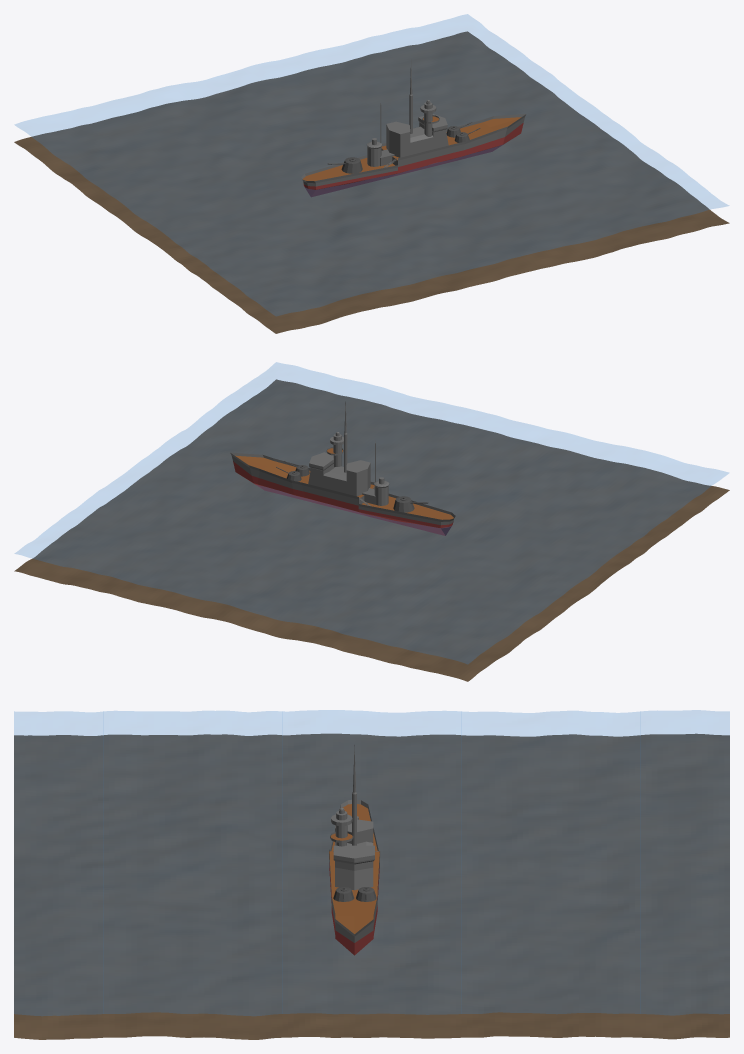
File: Warship.fbx
The picture shows the model from 3 angles, top to bottom: view 1: azimuth 30°, elevation 25°; view 2: azimuth 150°, elevation 25°; view 3: azimuth 270°, elevation 25°; orthographic projection. The views are drawn at different scales.
Visible parts, largest first — view 1: Plane.001, Plane, Cube; view 2: Plane.001, Plane, Cube; view 3: Plane.001, Plane, Cube.
Part boxes in pixels (x1,y1,x2,y2): Plane.001: (14, 31, 729, 333); Plane: (15, 14, 728, 315); Cube: (301, 59, 526, 197); Plane.001: (14, 379, 729, 681); Plane: (15, 362, 728, 663); Cube: (230, 401, 455, 535); Plane.001: (14, 733, 729, 1039); Plane: (14, 710, 729, 1015); Cube: (329, 745, 380, 955).
Size of the model in its own units: 2184 by 567 by 2184.
